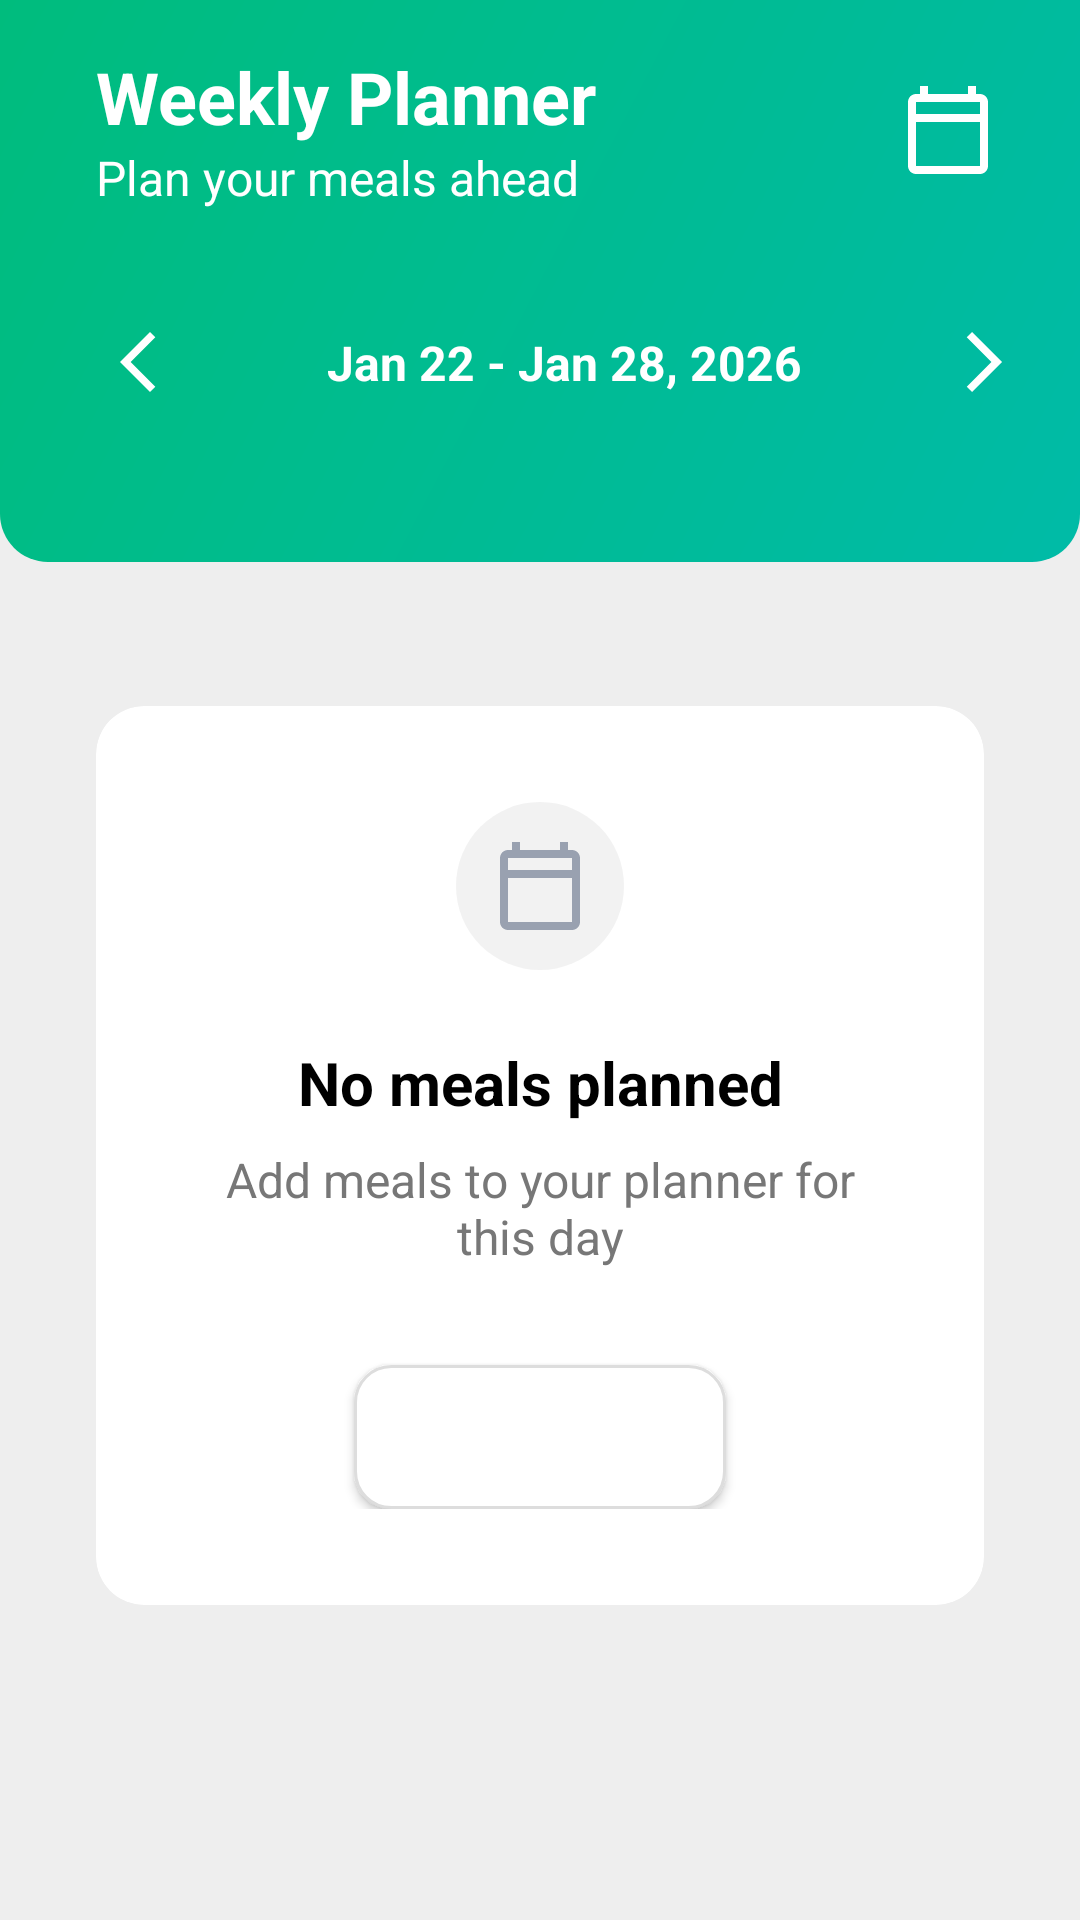

Screen size 1080 × 1920. Icon name, then its center in pixels as [x,y]:
arrow back: [137,362]
arrow forward: [984,362]
calendar: [948,130], [540,886]
